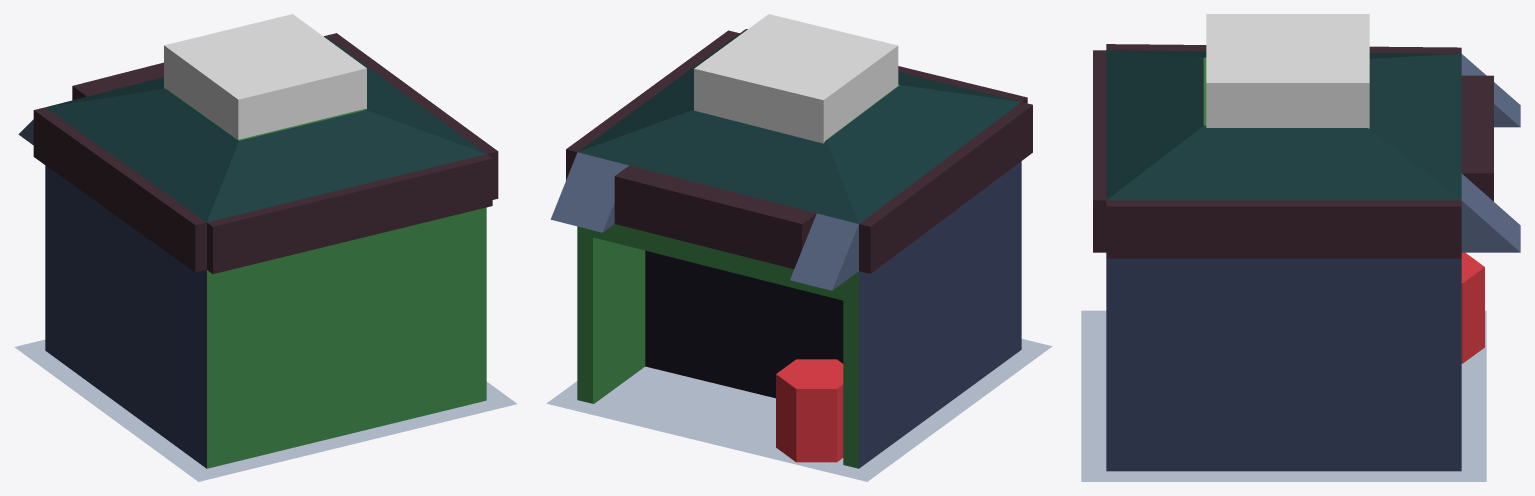
File: barrack.glb
The picture shows the model from 3 angles, left to right: view 1: azimuth 30°, elevation 25°; view 2: azimuth 150°, elevation 25°; view 3: azimuth 270°, elevation 25°; orthographic projection. The views are drawn at different scales.
Visible parts, largest first — view 1: house, teammesh; view 2: house, teammesh; view 3: house, teammesh.
Part boxes in pixels (<box>): house: <box>14,33,517,481</box>; teammesh: <box>164,14,366,139</box>; house: <box>546,29,1052,481</box>; teammesh: <box>694,14,898,143</box>; house: <box>1081,44,1520,481</box>; teammesh: <box>1206,14,1369,128</box>.
Size of the model in its own units: 4 by 3.8 by 4.33.
Materials: 1 (1 with a texture image).
